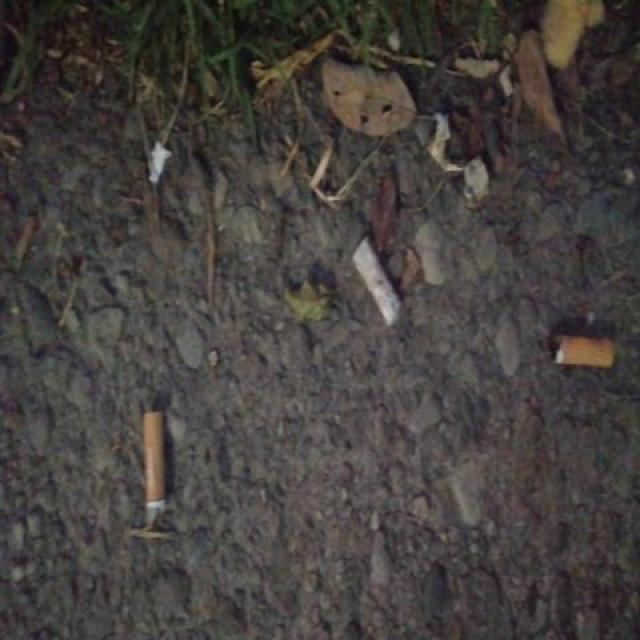non-organic waste: (346, 228, 407, 336), (139, 402, 172, 534), (546, 329, 621, 375)
